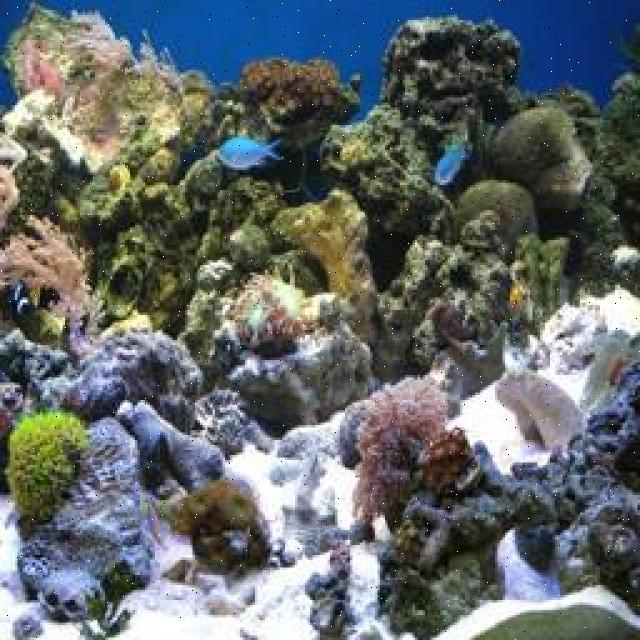aquatic plants: (6, 408, 91, 524), (74, 563, 132, 638)
fish: (217, 135, 285, 169), (435, 137, 469, 182), (13, 280, 37, 324), (508, 289, 521, 310)
reefs: (2, 417, 154, 623), (350, 375, 450, 521), (0, 211, 110, 335), (117, 399, 226, 491), (172, 481, 275, 574), (68, 9, 183, 90), (495, 371, 589, 452), (228, 262, 311, 347), (241, 55, 341, 122), (539, 302, 608, 373), (416, 428, 482, 490), (0, 160, 22, 228)
sea-floor: (304, 359, 638, 638)
